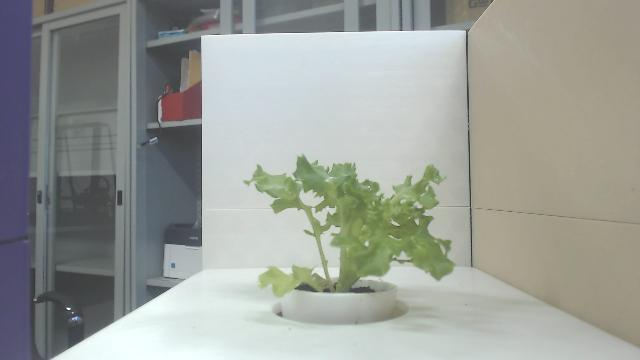Vegetative Stage: (242, 153, 458, 299)
